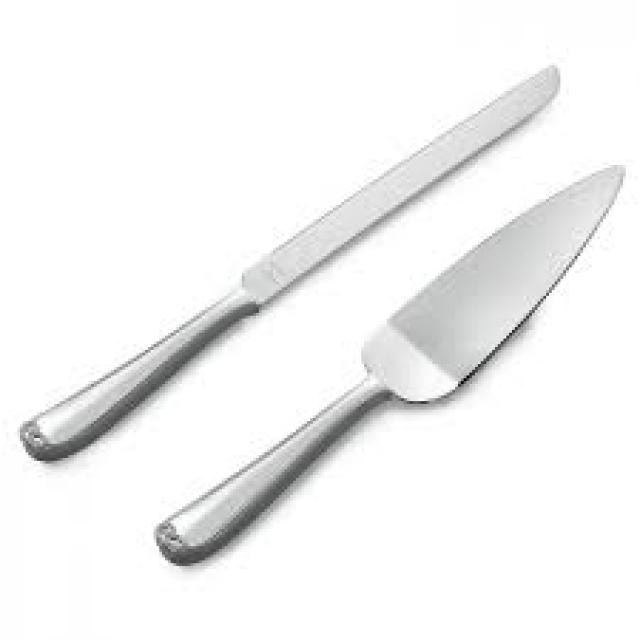knives: (11, 57, 566, 466), (148, 156, 629, 572)
